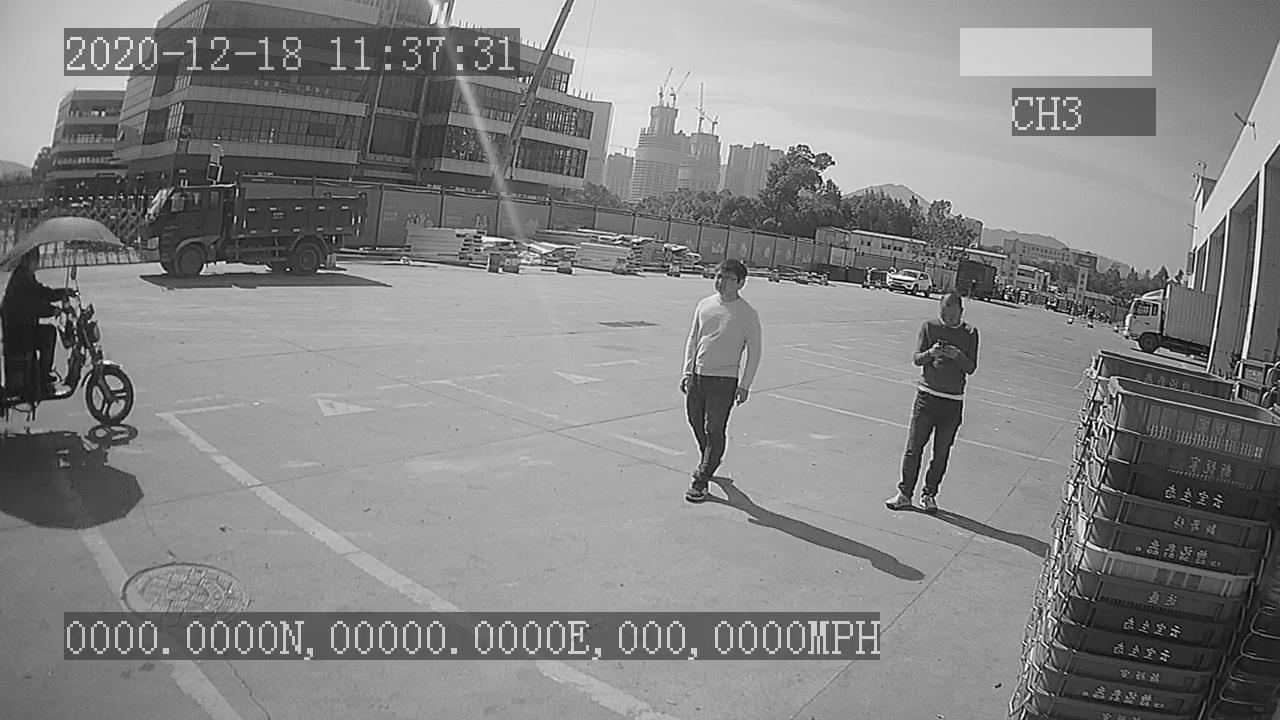person: (675, 255, 769, 506), (886, 290, 981, 518)
